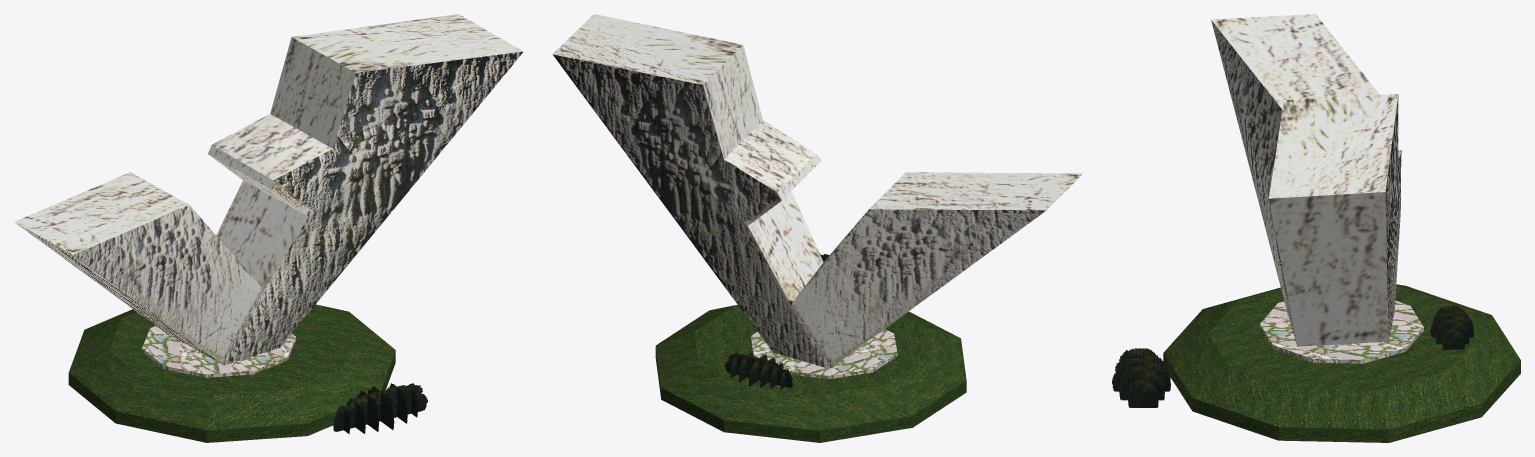
The picture shows the model from 3 angles, left to right: view 1: azimuth 30°, elevation 25°; view 2: azimuth 150°, elevation 25°; view 3: azimuth 270°, elevation 25°; orthographic projection. The views are drawn at different scales.
Visible parts, largest first — view 1: SketchUp (×4); view 2: SketchUp (×5); view 3: SketchUp (×10).
Part boxes in pixels (box(x1,y1,x2,y2)): SketchUp (×4): box(14, 14, 523, 442); SketchUp (×5): box(552, 14, 1082, 442); SketchUp (×10): box(1112, 14, 1520, 442).
Bounding box in the file's own units: 643 × 432 × 374.
Materials: 9 (7 with a texture image).
